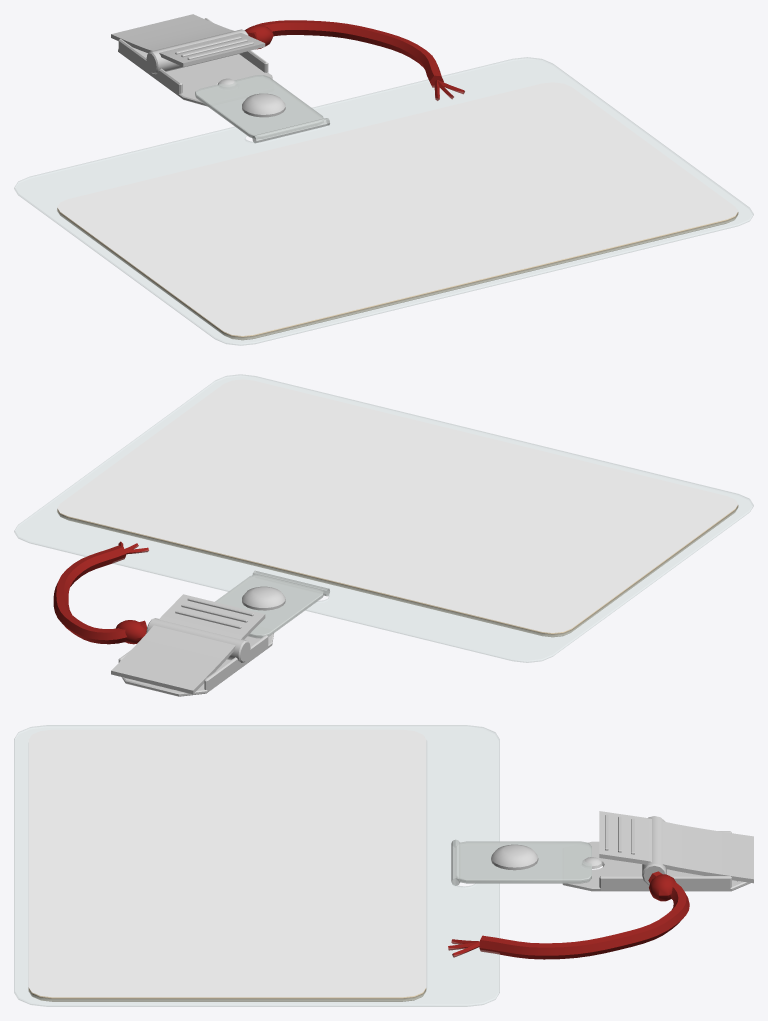
Rendered from leyla_badge.glb.
The picture shows the model from 3 angles, top to bottom: view 1: azimuth 30°, elevation 25°; view 2: azimuth 150°, elevation 25°; view 3: azimuth 270°, elevation 25°; orthographic projection. The views are drawn at different scales.
Parts seen in each view (by area): view 1: badge_face, badge_clip, leyla_badge; view 2: badge_face, badge_clip, leyla_badge; view 3: badge_face, badge_clip, leyla_badge.
Boxes of the visible parts, box(x1,y1,x2,y2) form: badge_face: box(57, 82, 737, 335); badge_clip: box(14, 14, 753, 345); leyla_badge: box(57, 208, 738, 340); badge_face: box(57, 379, 737, 632); badge_clip: box(14, 374, 753, 696); leyla_badge: box(57, 505, 738, 637); badge_face: box(28, 729, 426, 997); badge_clip: box(14, 725, 753, 1006); leyla_badge: box(28, 987, 426, 1001).
Size of the model in its own units: 0.09 by 0.00554 by 0.1005.
